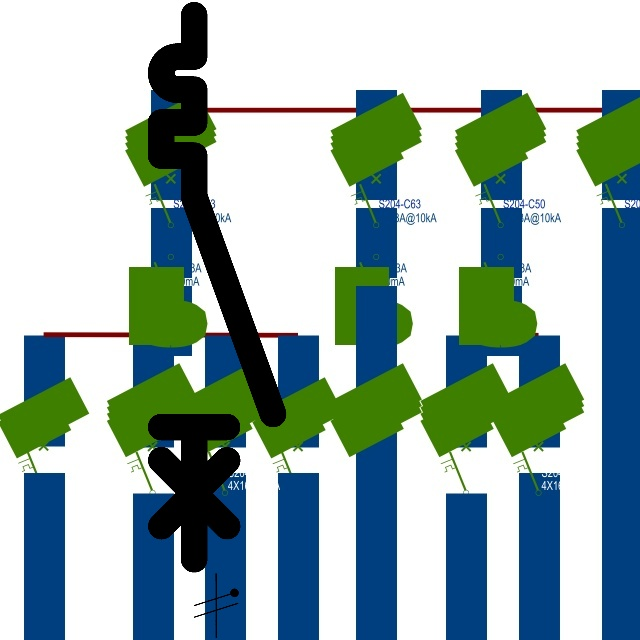interruptor_termomagnetico: (147, 1, 287, 573)
